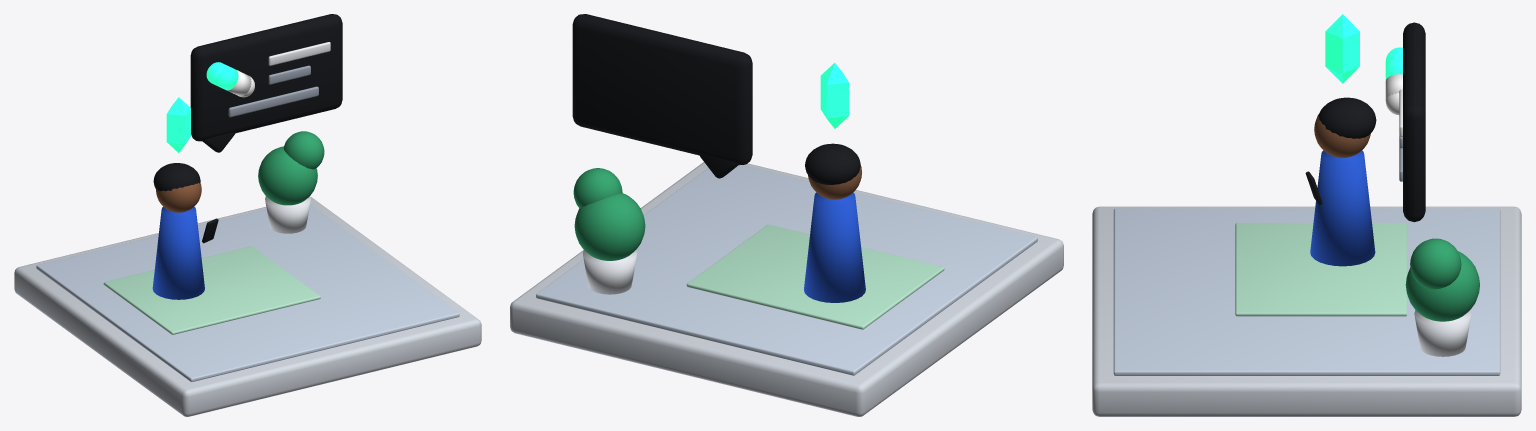
The model's file is step-1.glb.
3 views of the same model, side by side, from view 1: azimuth 30°, elevation 25°; view 2: azimuth 150°, elevation 25°; view 3: azimuth 270°, elevation 25° (orthographic). The views are drawn at different scales.
Visible parts, largest first — view 1: Step1_floor, Step1_slab, s1_bubble_body, s1_rug, s1_person_body, s1_leaf1, s1_pot, s1_leaf2, s1_plumbob, s1_hair, s1_person_head, s1_line3 (+2 smaller); view 2: Step1_floor, Step1_slab, s1_bubble_body, s1_rug, s1_person_body, s1_leaf1, s1_hair, s1_pot, s1_plumbob, s1_leaf2, s1_person_head; view 3: Step1_floor, Step1_slab, s1_rug, s1_person_body, s1_bubble_body, s1_leaf1, s1_leaf2, s1_pot, s1_plumbob, s1_hair, s1_person_head.
Boxes of the visible parts, x1,y1,x2,y2 form: Step1_floor: (36, 204, 459, 381); Step1_slab: (14, 197, 481, 416); s1_bubble_body: (190, 14, 342, 141); s1_rug: (103, 246, 320, 334); s1_person_body: (152, 206, 204, 299); s1_leaf1: (258, 146, 317, 205); s1_pot: (265, 196, 310, 233); s1_leaf2: (283, 131, 324, 169); s1_plumbob: (166, 97, 190, 152); s1_hair: (153, 163, 200, 191); s1_person_head: (156, 182, 201, 212); s1_line3: (228, 86, 318, 117); Step1_floor: (536, 165, 1037, 375); Step1_slab: (510, 162, 1063, 416); s1_bubble_body: (572, 14, 752, 165); s1_rug: (686, 224, 944, 329); s1_person_body: (804, 192, 865, 302); s1_leaf1: (574, 193, 645, 260); s1_hair: (805, 143, 860, 184); s1_pot: (582, 250, 637, 294); s1_plumbob: (820, 63, 849, 128); s1_leaf2: (573, 168, 622, 208); s1_person_head: (808, 165, 861, 199); Step1_floor: (1113, 208, 1500, 375); Step1_slab: (1092, 206, 1521, 416); s1_rug: (1235, 223, 1406, 316); s1_person_body: (1310, 150, 1375, 266); s1_bubble_body: (1403, 22, 1425, 222); s1_leaf1: (1405, 251, 1479, 321); s1_leaf2: (1410, 238, 1461, 289); s1_pot: (1414, 310, 1471, 356); s1_plumbob: (1325, 14, 1359, 83); s1_hair: (1318, 97, 1376, 138); s1_person_head: (1314, 114, 1370, 157).
Bounding box in the file's own units: 3 × 2.33 × 3.
